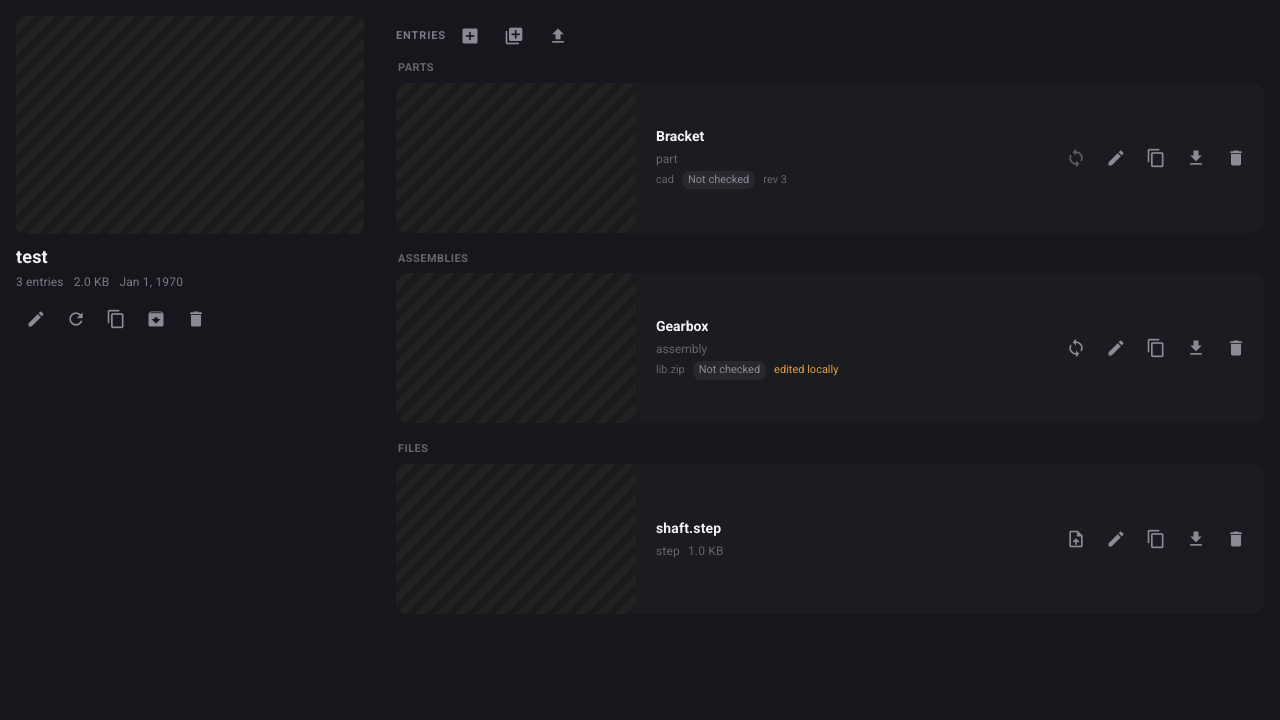
Scenario: WorkspaceView origins › labels each row with what the check answered
This screenshot has width=1280, height=720.
Expected: the text "Bracket" is shown, [656,126,704,147]
Click the button named "Check for updates": click(76, 319) [56,299,96,339]
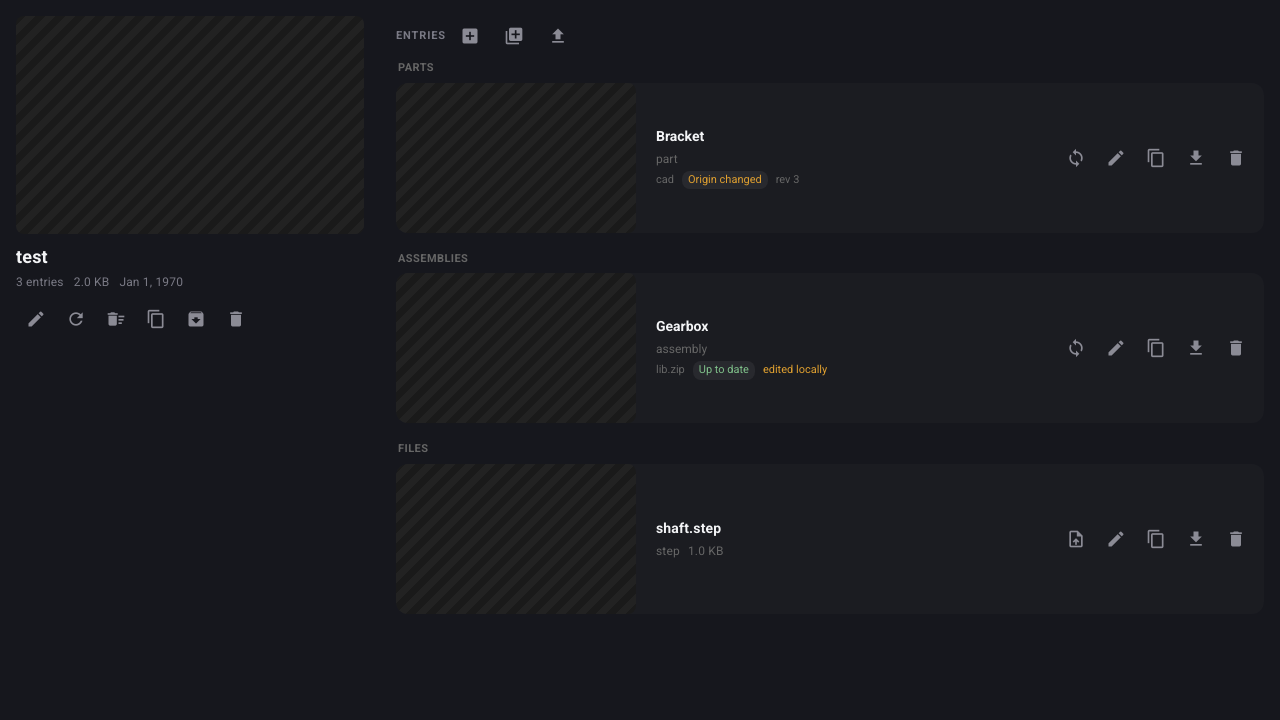
Now the text "Origin changed" is shown, box [682,171,768,189]
Now the text "Up to date" is shown, box [693,361,755,380]
